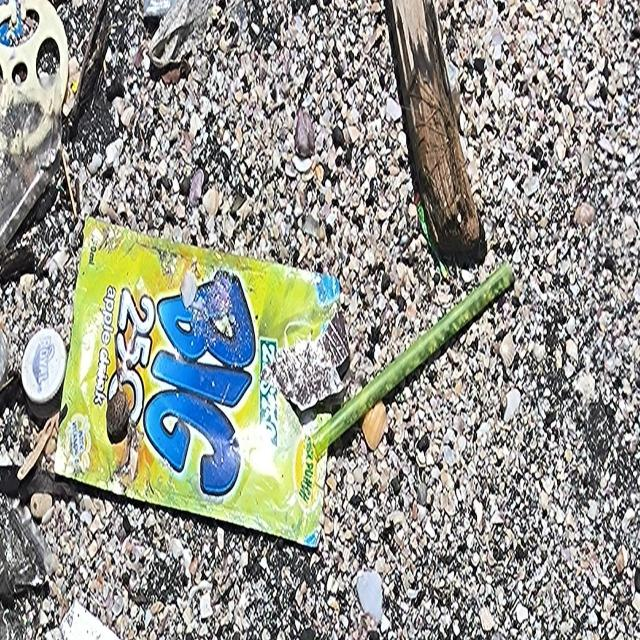plastic_waste: (55, 214, 343, 553), (312, 259, 518, 462), (21, 326, 68, 422)
